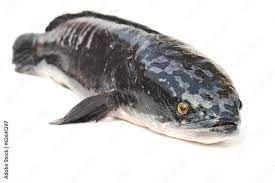Snakehead: (5, 8, 243, 146)
